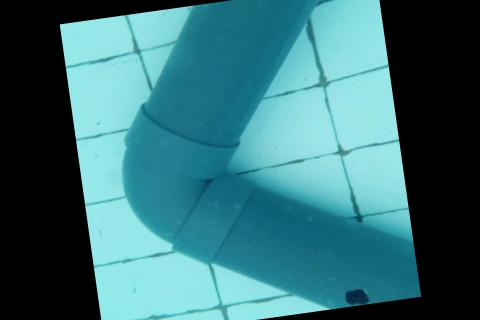kebocoran: (342, 285, 369, 306)
